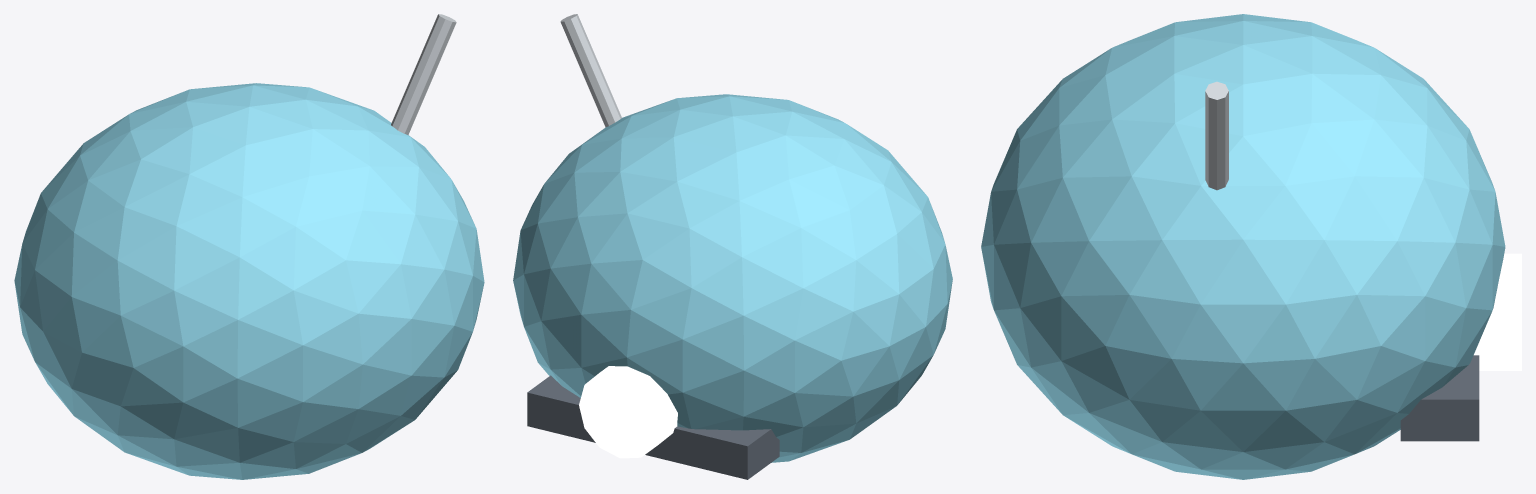
File: casco_4.glb
The picture shows the model from 3 angles, left to right: view 1: azimuth 30°, elevation 25°; view 2: azimuth 150°, elevation 25°; view 3: azimuth 270°, elevation 25°; orthographic projection. The views are drawn at different scales.
Visible parts, largest first — view 1: casco, antena; view 2: casco, visera, linterna, antena; view 3: casco, visera, linterna, antena.
Part boxes in pixels (bbox=[...]): casco: bbox=[14, 83, 484, 479]; antena: bbox=[391, 14, 456, 134]; casco: bbox=[513, 94, 952, 462]; visera: bbox=[527, 375, 779, 479]; linterna: bbox=[579, 366, 677, 458]; antena: bbox=[560, 14, 621, 127]; casco: bbox=[981, 14, 1505, 479]; visera: bbox=[1400, 355, 1479, 441]; linterna: bbox=[1474, 253, 1521, 370]; antena: bbox=[1205, 81, 1228, 190].
Size of the model in its own units: 0.9 by 0.8443 by 0.8839.
